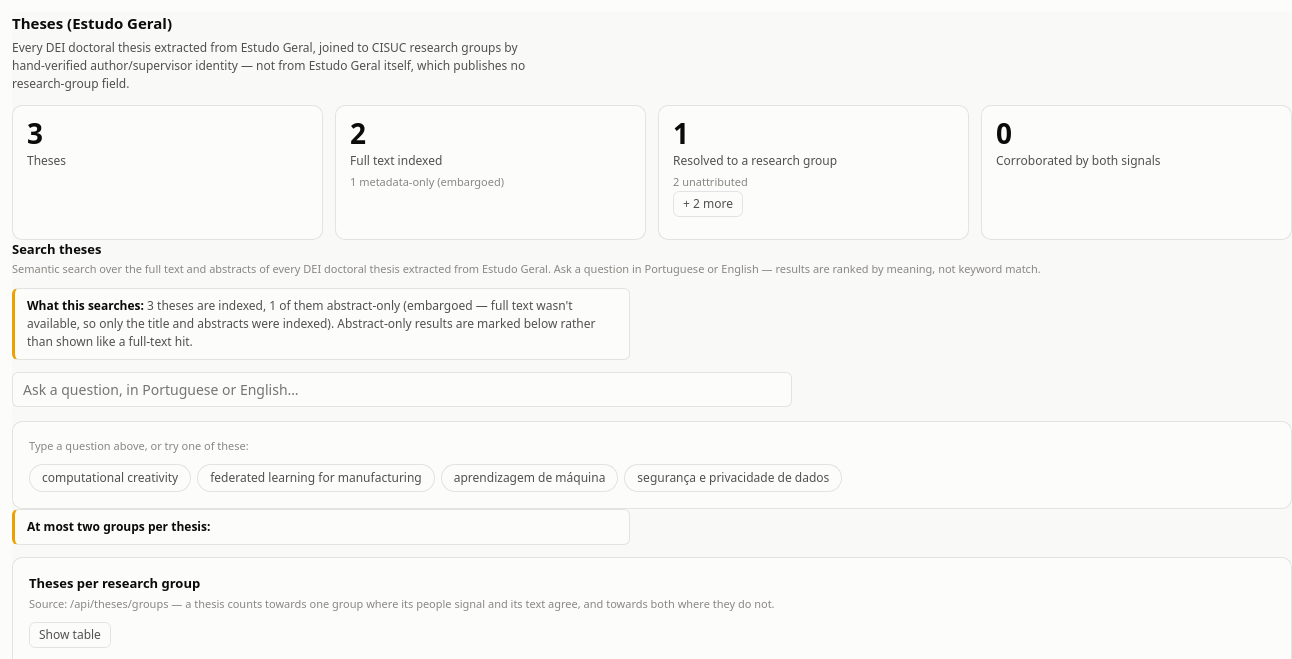
Test: Theses — unattributed expand control › reveals exactly the unattributed theses on click, and collapses back on "Show fewer"
The width and height of the screenshot is (1292, 659).
Click the button "+ 2 more". click: (708, 204)
box: [673, 191, 743, 217]
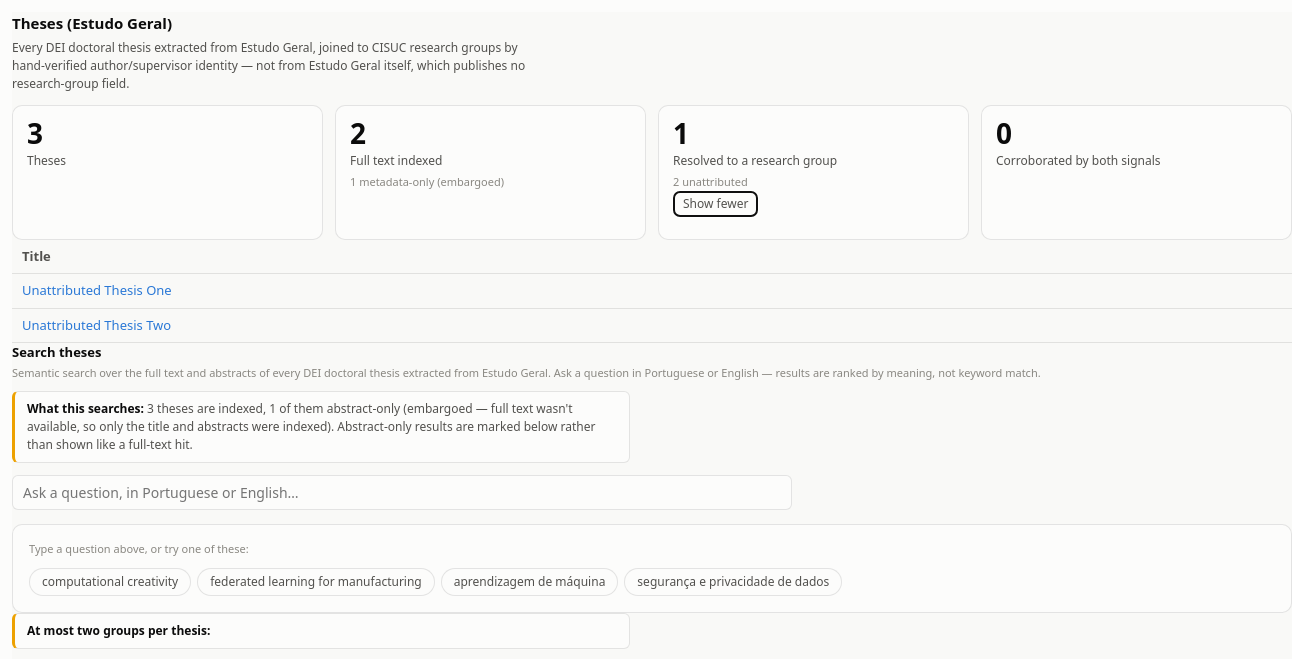
Now the number of buttons "Unattributed Thesis One" is 2
Now the number of buttons "Unattributed Thesis Two" is 2
Now the button "Show fewer" is shown, box [673, 191, 758, 217]
Clicking a revealed row reuses the same onOpenThesis the big table uses.
Click the button "Unattributed Thesis One". click: (97, 291)
box: [22, 281, 172, 301]
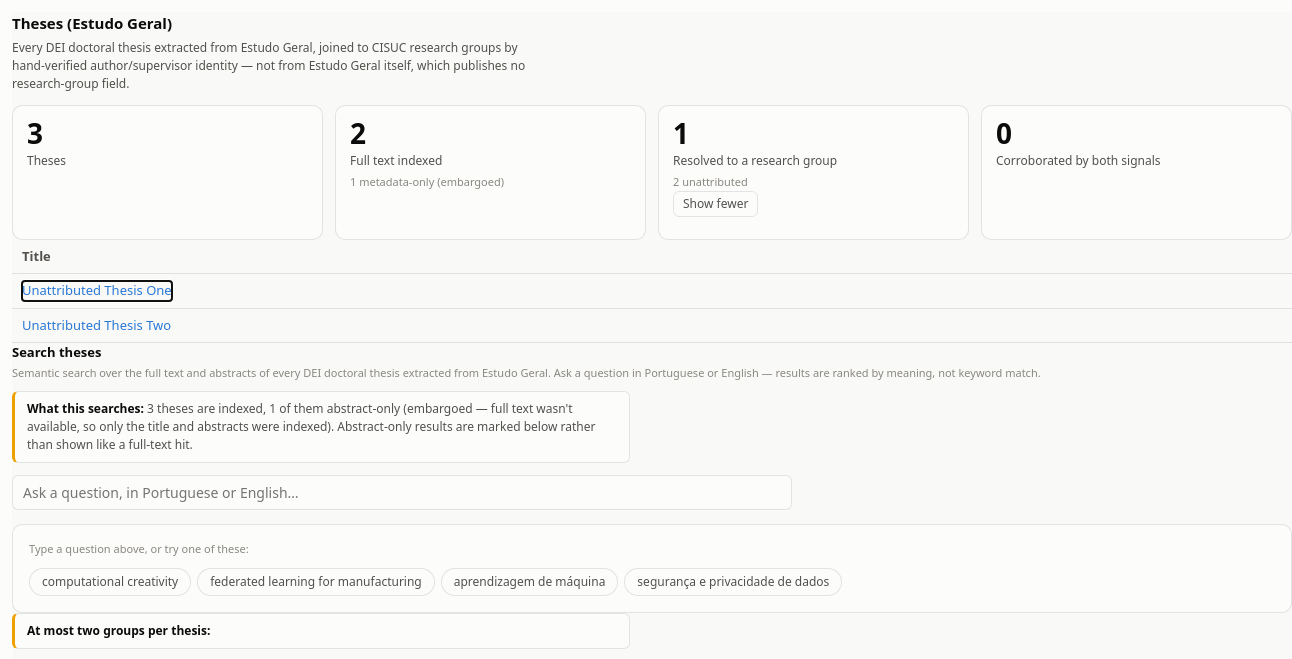
Click the button "Show fewer". click: (716, 204)
box: [673, 191, 758, 217]
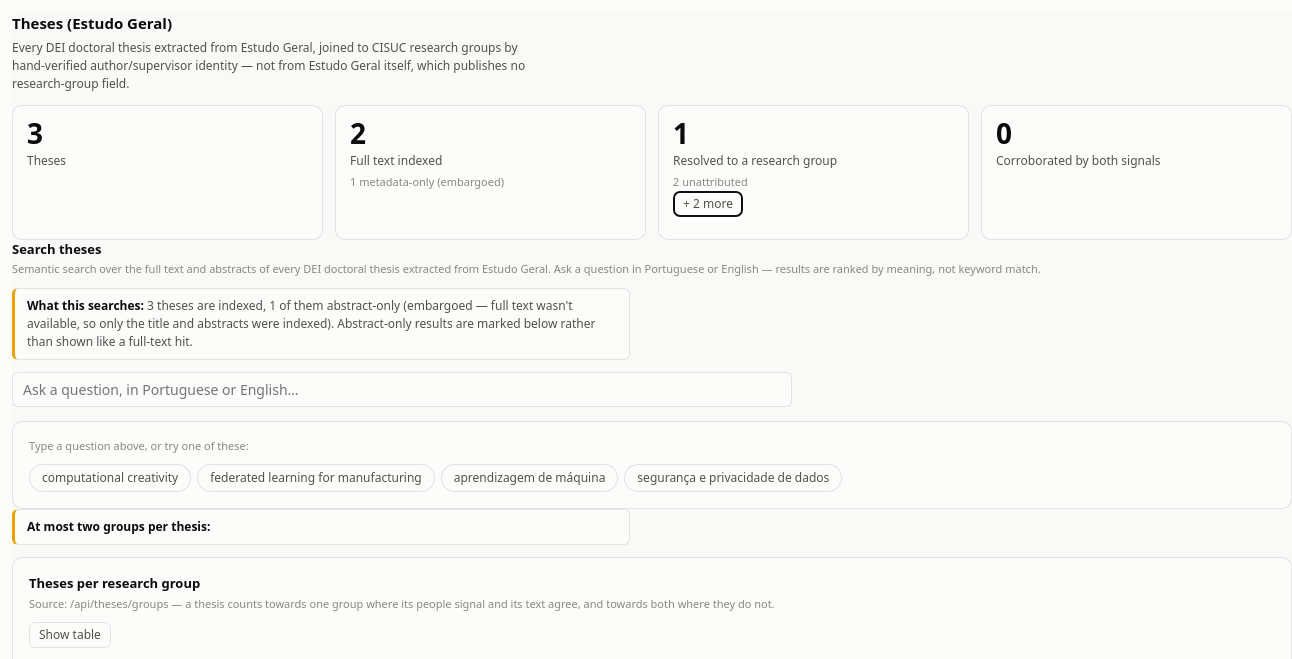
Now the button "+ 2 more" is shown, box [673, 191, 743, 217]
